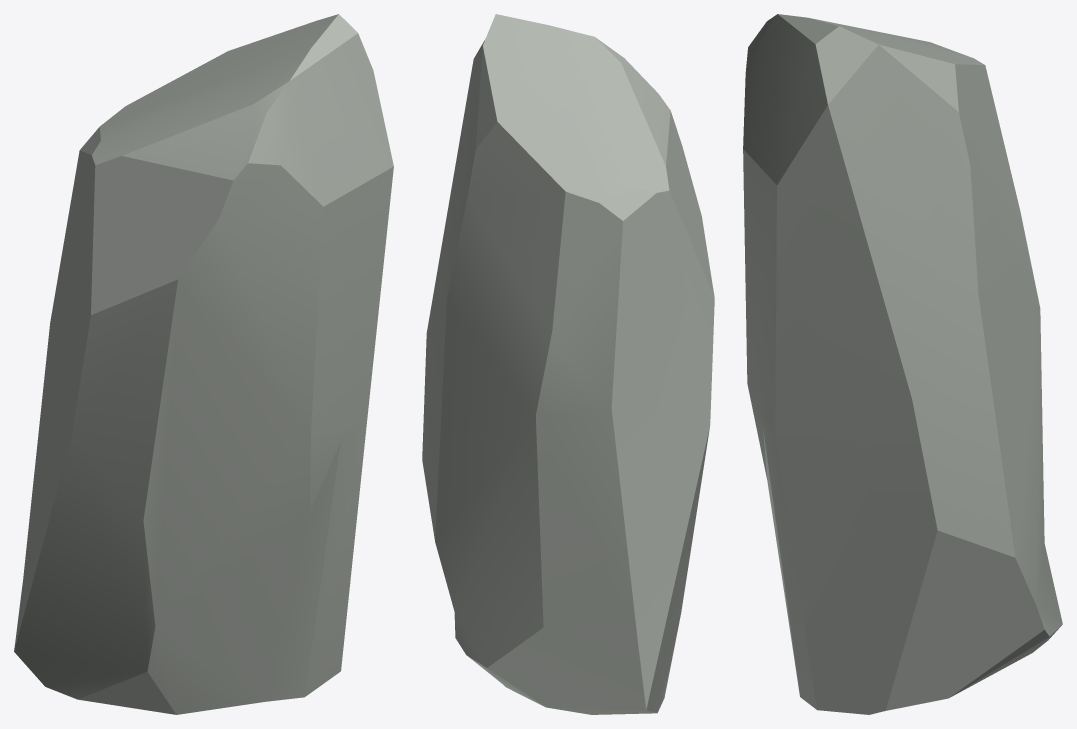
Rendered from dummy_cliff_2.fbx.
The picture shows the model from 3 angles, left to right: view 1: azimuth 30°, elevation 25°; view 2: azimuth 150°, elevation 25°; view 3: azimuth 270°, elevation 25°; orthographic projection. The views are drawn at different scales.
Parts seen in each view (by area): view 1: Rock.031; view 2: Rock.031; view 3: Rock.031.
Part boxes in pixels (<box>): Rock.031: <box>14,14,393,714</box>; Rock.031: <box>422,14,714,714</box>; Rock.031: <box>743,14,1062,714</box>.
Size of the model in its own units: 498 by 1083 by 446.
1 material, 1 textured.
